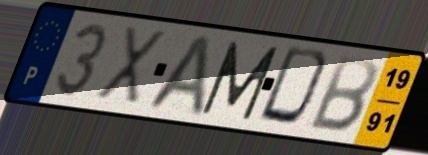3: (50, 21, 112, 99)
A: (141, 32, 213, 120)
B: (305, 53, 381, 135)
D: (254, 44, 335, 132)
M: (198, 39, 282, 123)
X: (91, 23, 169, 109)
